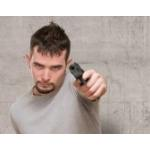Pistol: (67, 62, 89, 84)
